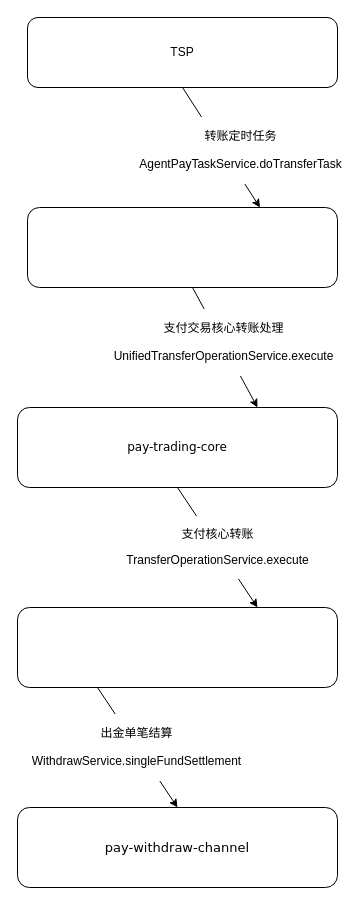
Image size: 359x905. Some labels were removed from this diagram. The centre of each missing label's shape, as x and y in pixels:
"pay-courier" goes at point 182,247.
"pay-payment-core" goes at point 177,647.
